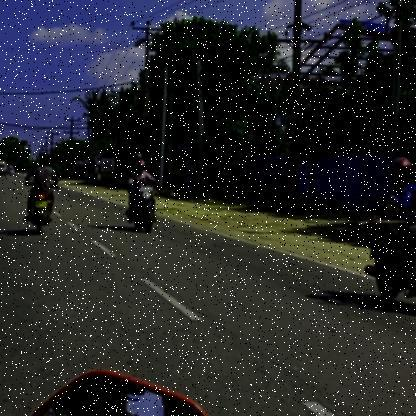motorcycle: (358, 204, 416, 320), (120, 182, 163, 235), (21, 188, 57, 236)
